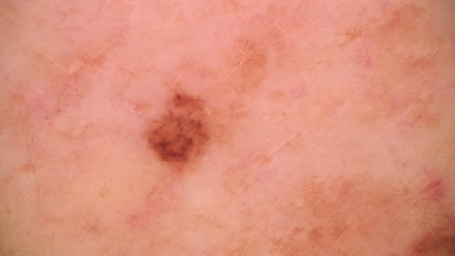nevus: (144, 89, 211, 167)
